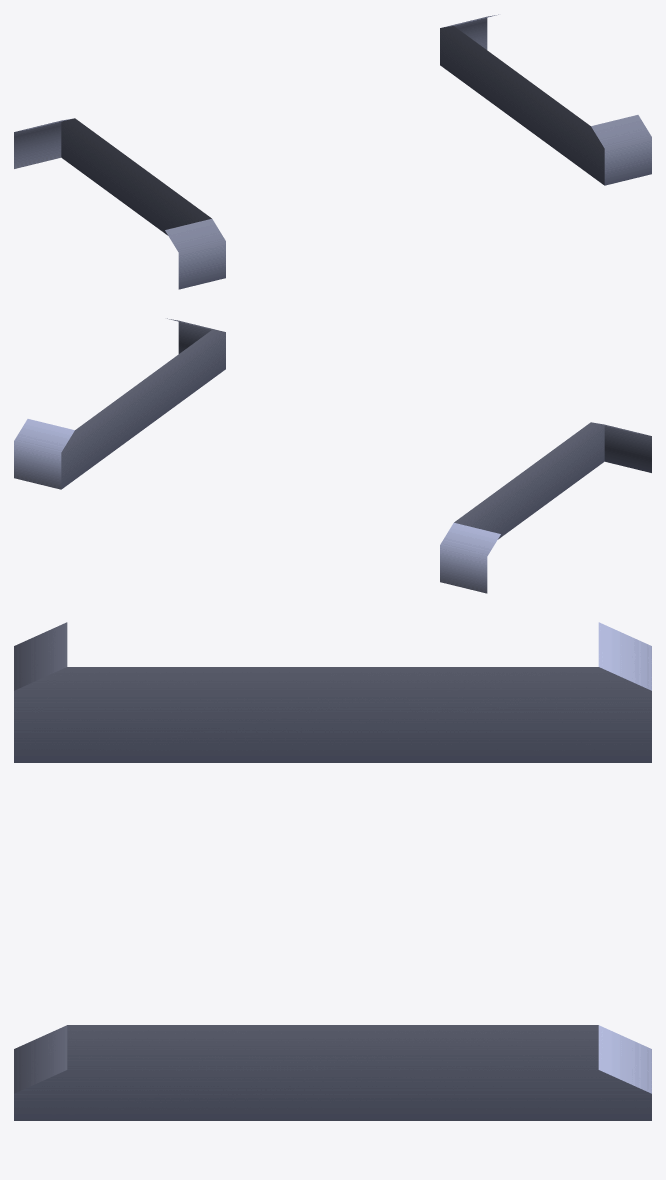
Rendered from wall-door-rotate_lev2.glb.
3 renders of one model, top to bottom at view 1: azimuth 30°, elevation 25°; view 2: azimuth 150°, elevation 25°; view 3: azimuth 270°, elevation 25°, orthographic. The views are drawn at different scales.
Parts seen in each view (by area): view 1: wall-door-rotate_lev2; view 2: wall-door-rotate_lev2; view 3: wall-door-rotate_lev2.
Boxes of the visible parts, bbox=[...] form: wall-door-rotate_lev2: bbox=[14, 14, 651, 289]; wall-door-rotate_lev2: bbox=[14, 318, 651, 593]; wall-door-rotate_lev2: bbox=[14, 622, 651, 1120].
Size of the model in its own units: 8.04 by 0.8027 by 4.84.
1 material, 1 textured.
